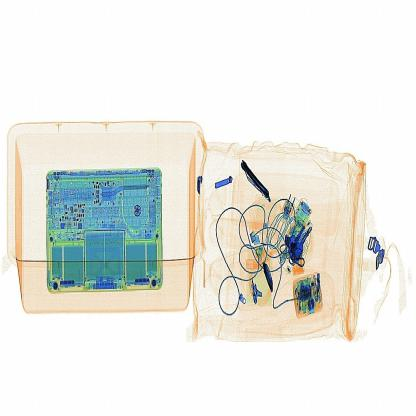knife: (236, 148, 282, 208)
